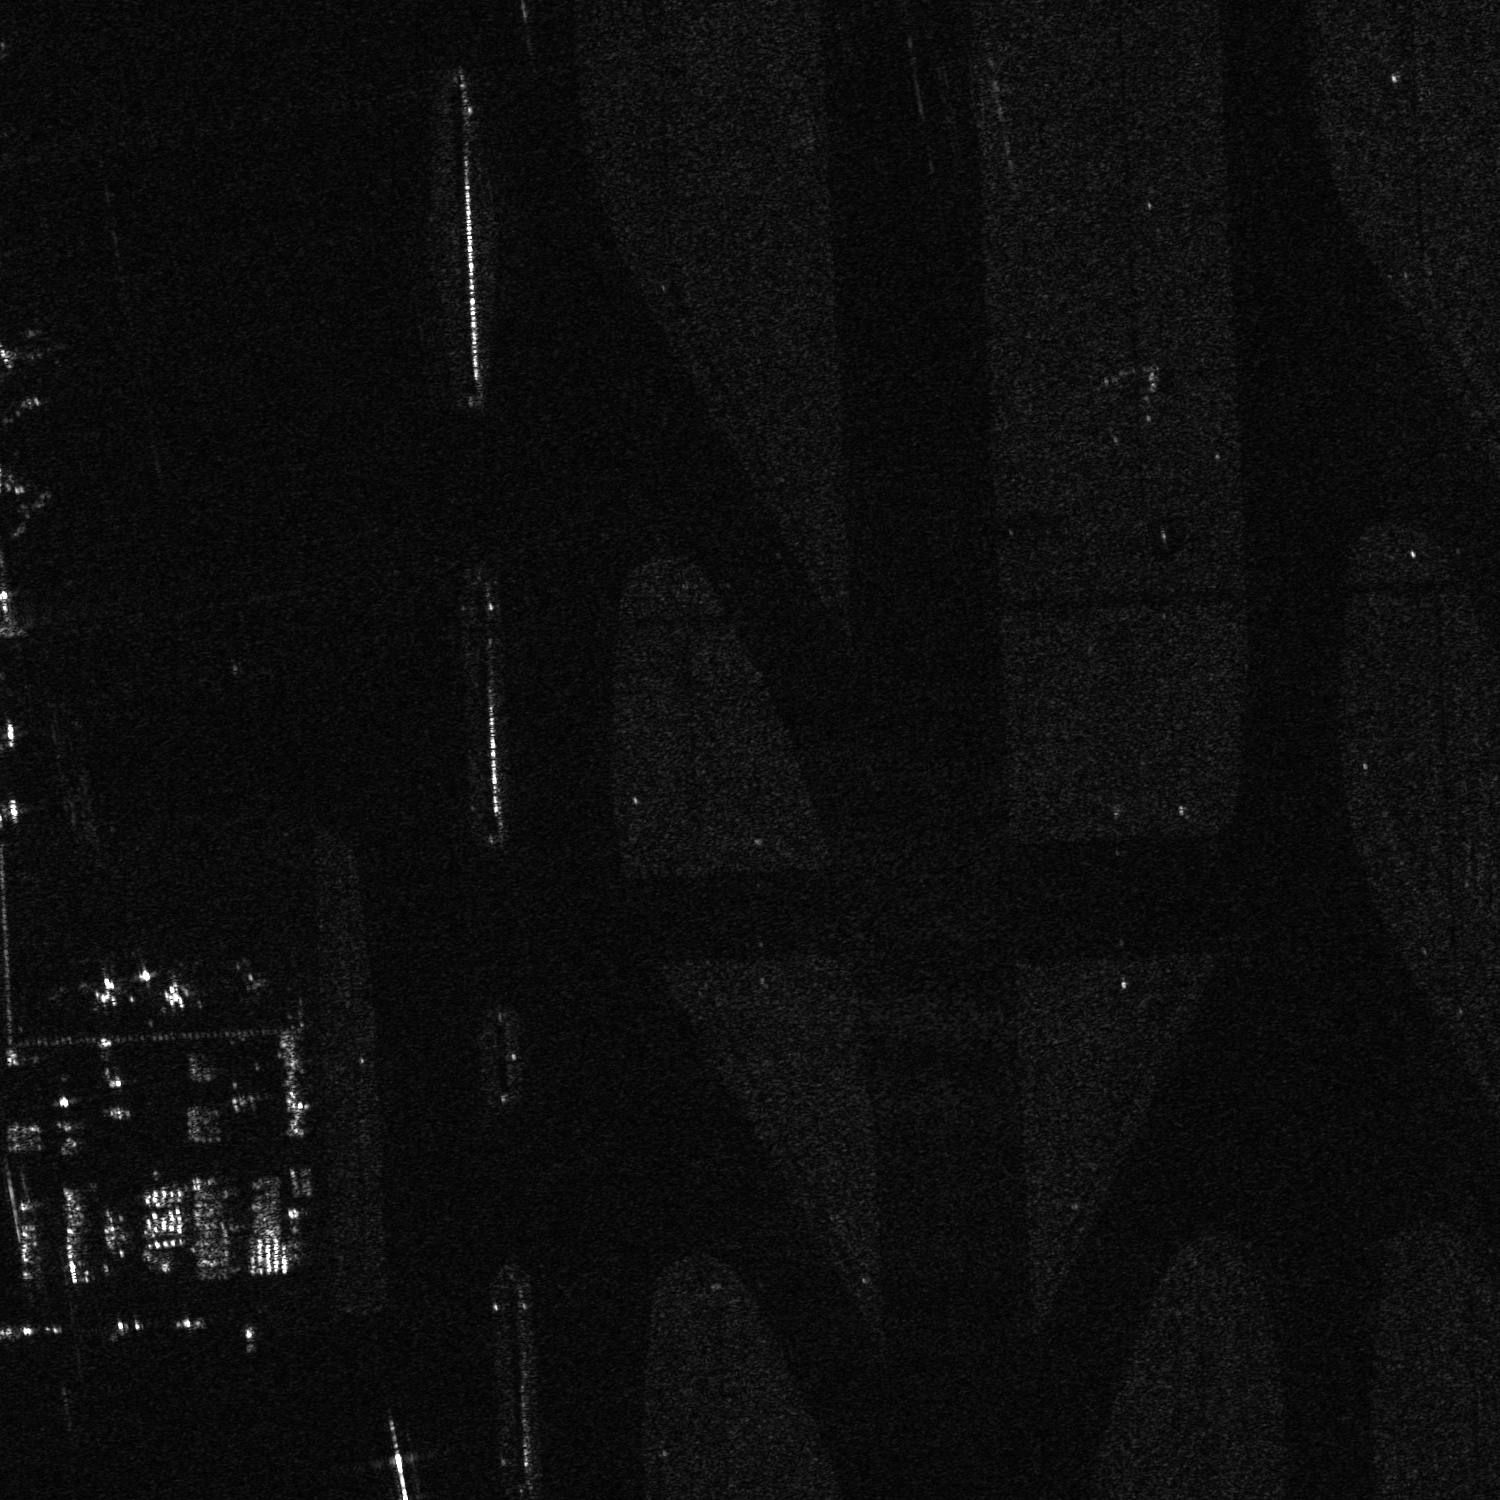ARJ21: (77, 968, 128, 1015)
other: (1, 321, 82, 370), (146, 964, 199, 1014)
